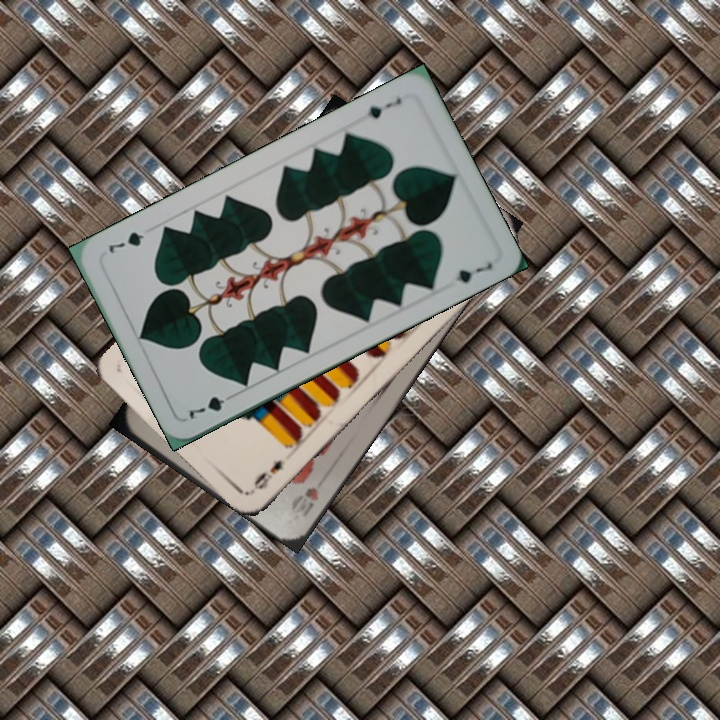E9: (248, 456, 285, 494)
G7: (184, 388, 239, 425), (363, 93, 404, 122)
H10: (286, 482, 322, 520)
